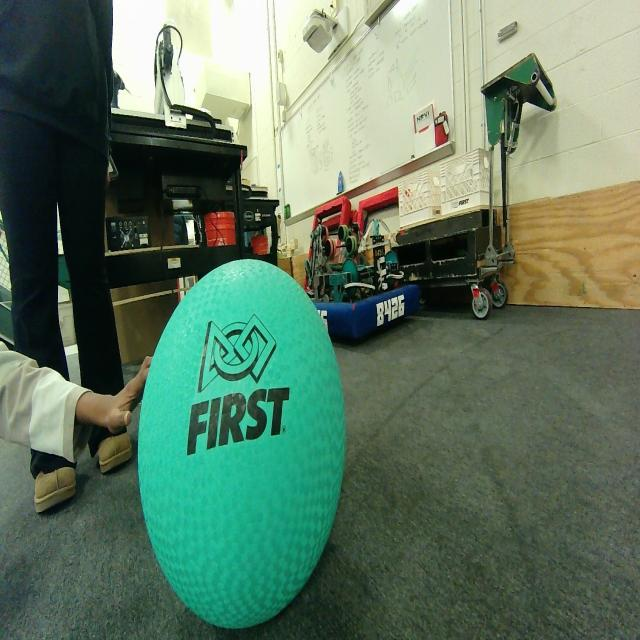algae: (138, 259, 345, 628)
